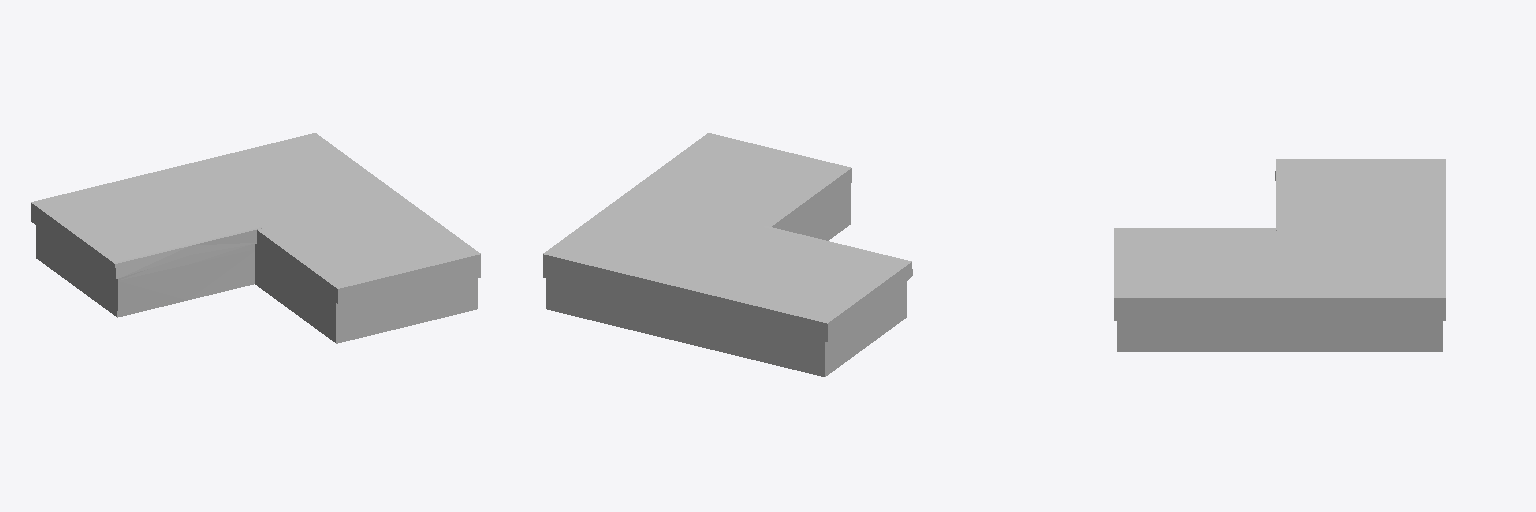
File: Grass_Base_Stair.obj
3 renders of one model, left to right at view 1: azimuth 30°, elevation 25°; view 2: azimuth 150°, elevation 25°; view 3: azimuth 270°, elevation 25°, orthographic.
Visible parts, largest first — view 1: Grass_Base.003_Cube.005; view 2: Grass_Base.003_Cube.005; view 3: Grass_Base.003_Cube.005.
Part boxes in pixels (x1,y1,x2,y2): Grass_Base.003_Cube.005: (31, 133, 480, 343); Grass_Base.003_Cube.005: (543, 133, 912, 376); Grass_Base.003_Cube.005: (1114, 159, 1445, 351).
Bounding box in the file's own units: 11.55 × 2.17 × 11.65.